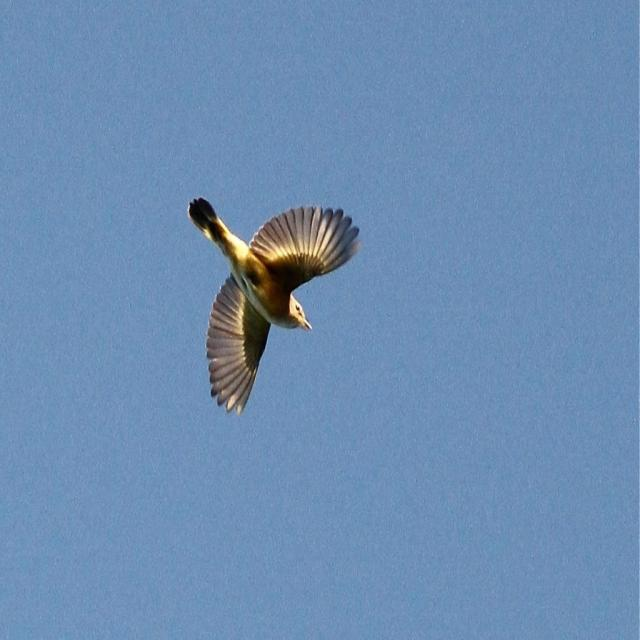bird: (184, 198, 368, 425)
